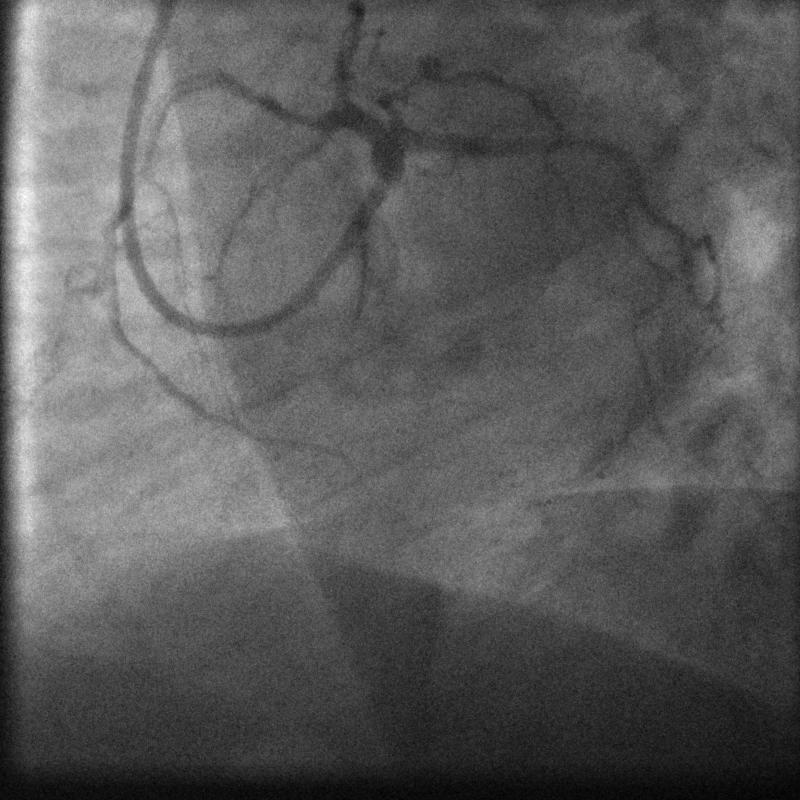Stenosis: (268, 93, 334, 136)
